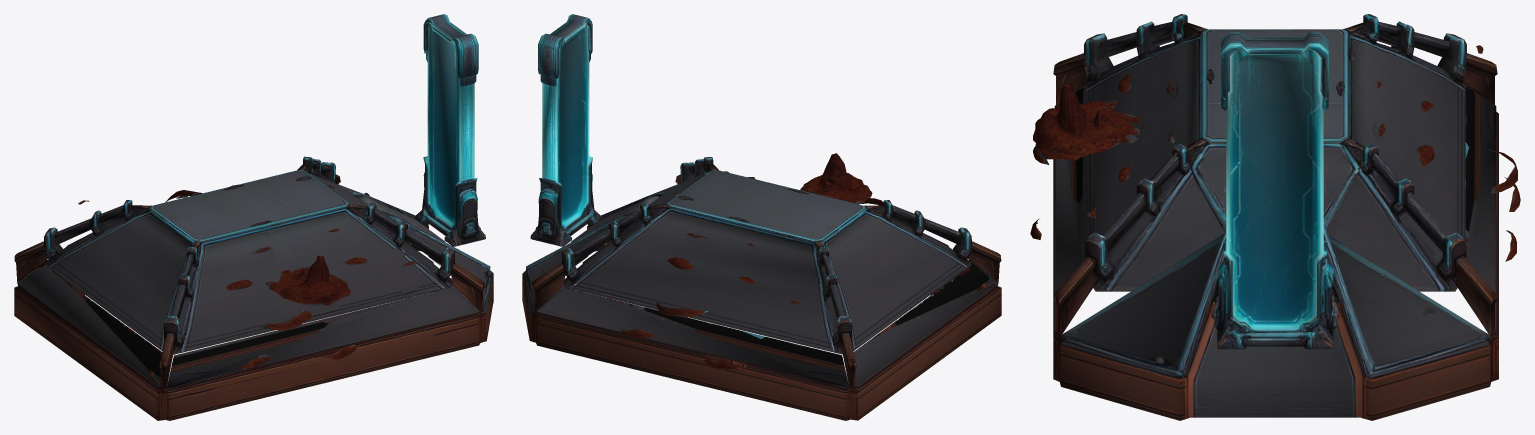
File: dodge_pillar.glb
3 views of the same model, side by side, from view 1: azimuth 30°, elevation 25°; view 2: azimuth 150°, elevation 25°; view 3: azimuth 270°, elevation 25° (orthographic). The views are drawn at different scales.
Parts seen in each view (by area): view 1: tripo_node_afca014f-d854-4271-bd59-9a9be233b2d8; view 2: tripo_node_afca014f-d854-4271-bd59-9a9be233b2d8; view 3: tripo_node_afca014f-d854-4271-bd59-9a9be233b2d8.
Boxes of the visible parts, bbox=[...] form: tripo_node_afca014f-d854-4271-bd59-9a9be233b2d8: bbox=[14, 14, 493, 420]; tripo_node_afca014f-d854-4271-bd59-9a9be233b2d8: bbox=[522, 14, 1001, 420]; tripo_node_afca014f-d854-4271-bd59-9a9be233b2d8: bbox=[1030, 14, 1520, 420].
Bounding box in the file's own units: 0.998 × 0.6309 × 0.748.
1 material, 1 textured.
